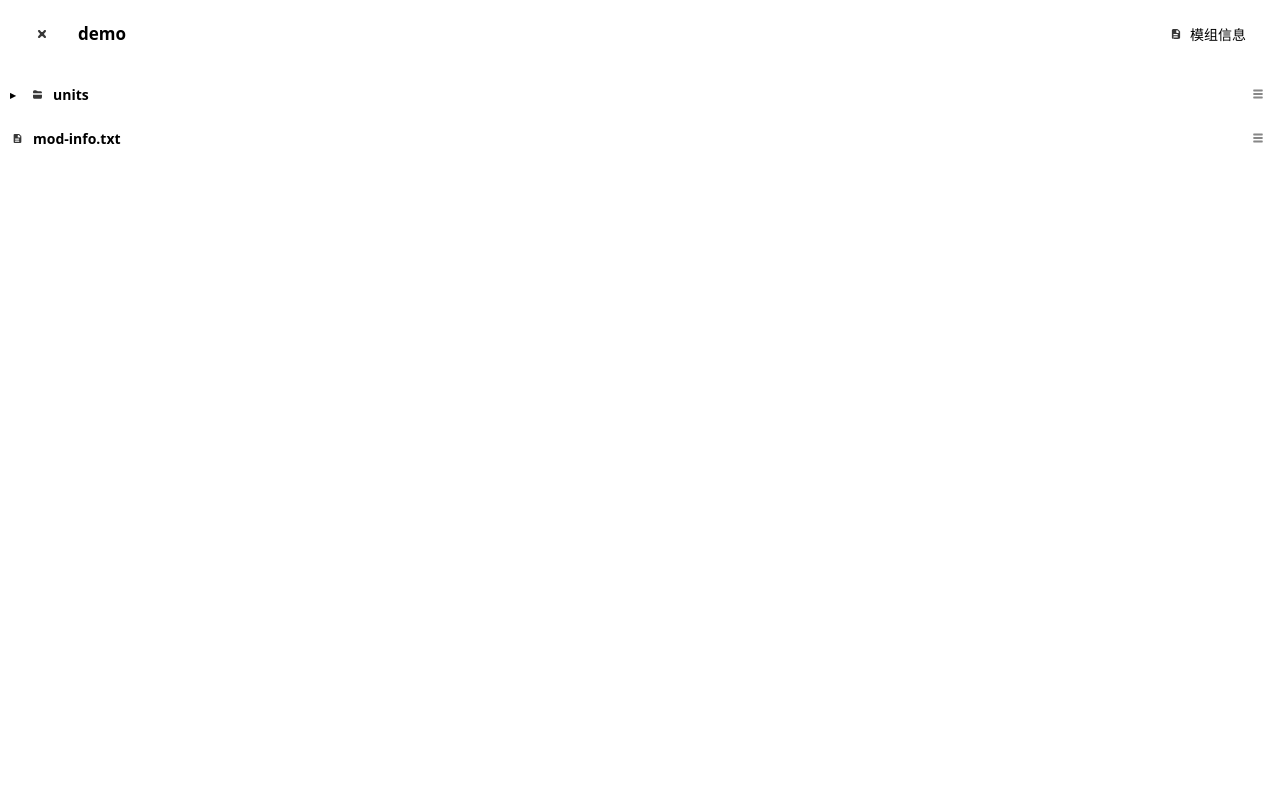
Scenario: 编辑器页：未保存保护 › 修改后点返回弹出确认，会话仍在（内容不会静默丢失）
The image size is (1280, 800).
Click the text "units".
click(71, 94)  # box [53, 84, 89, 104]
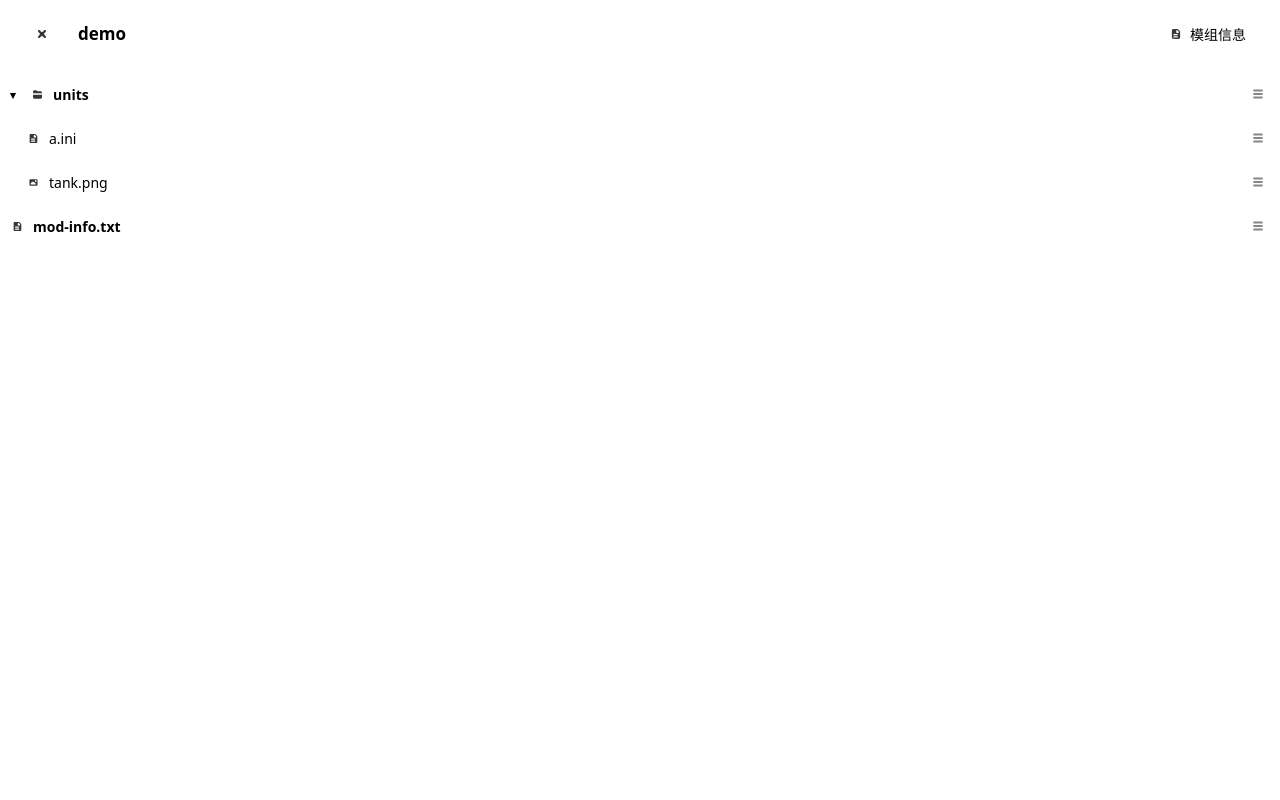
Click the button "a.ini".
click(34, 138)  # box [0, 118, 1236, 158]
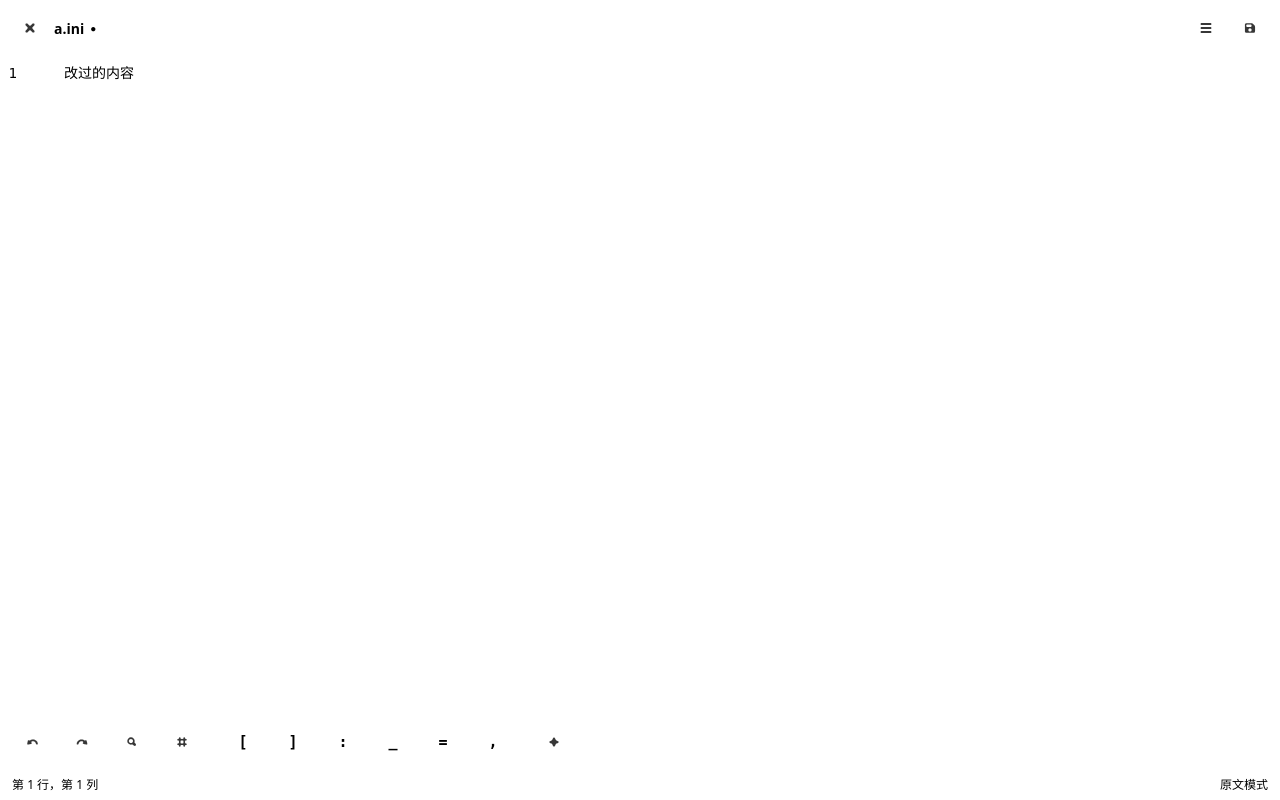
Click the button named "返回".
click(30, 28)  # box [10, 8, 50, 48]
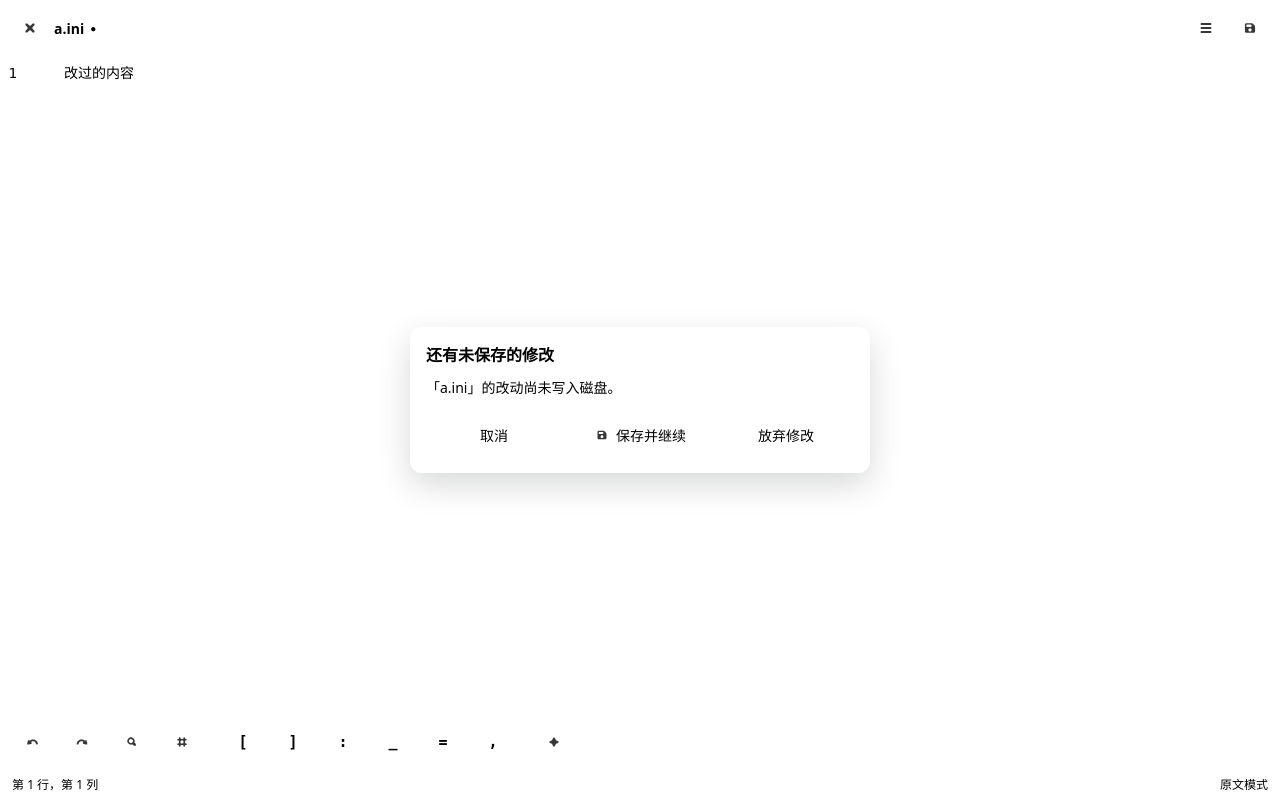
Result: the text box labelled "改过的内容" is shown at [64, 65, 134, 81]
Result: the heading "还有未保存的修改" is shown at [426, 344, 554, 366]
